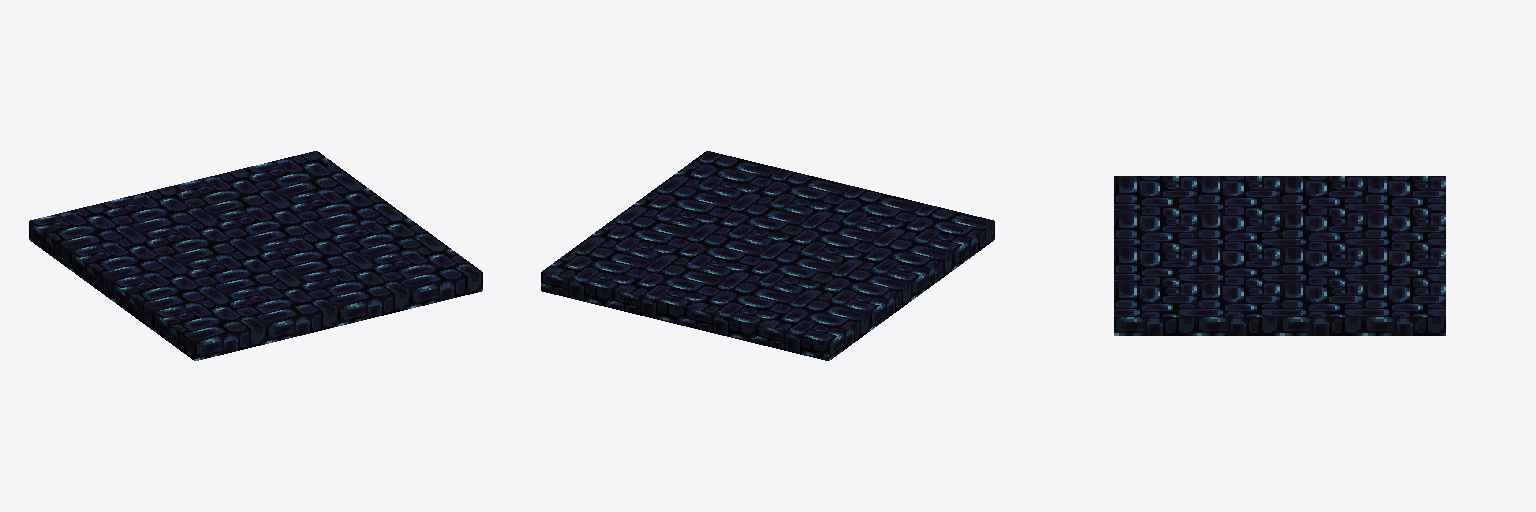
3 views of the same model, side by side, from view 1: azimuth 30°, elevation 25°; view 2: azimuth 150°, elevation 25°; view 3: azimuth 270°, elevation 25° (orthographic).
Parts seen in each view (by area): view 1: floor; view 2: floor; view 3: floor.
Boxes of the visible parts, x1=… form: floor: x1=29, y1=151, x2=482, y2=360; floor: x1=541, y1=151, x2=994, y2=360; floor: x1=1114, y1=176, x2=1445, y2=335.
Bounding box in the file's own units: 16 × 1 × 16.
Materials: 1 (1 with a texture image).